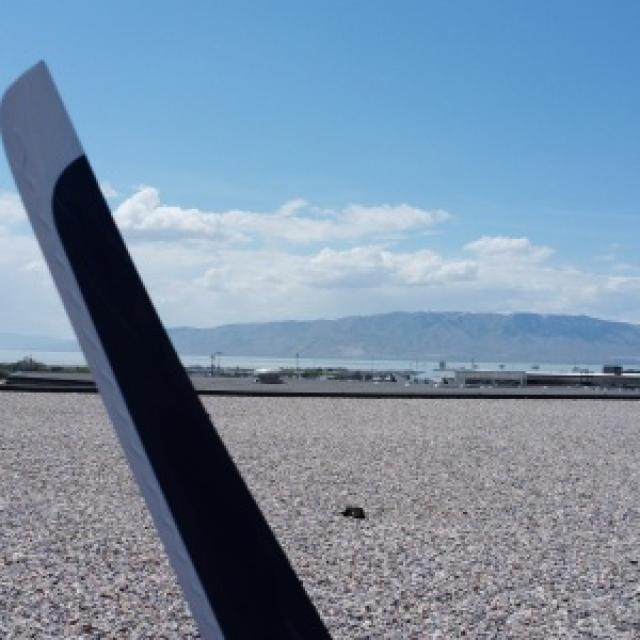healthy: (0, 64, 326, 638)
